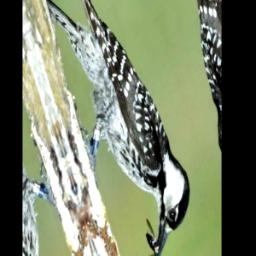Woodpecker: (41, 0, 202, 256)
